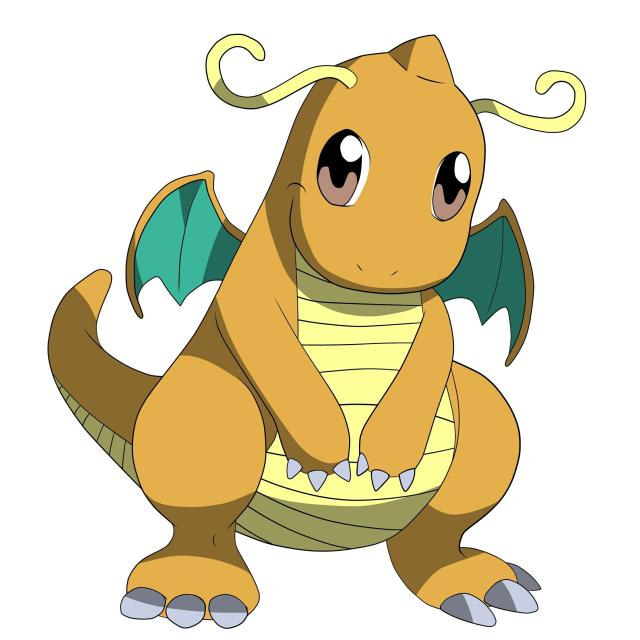Dragonite: (120, 26, 541, 622)
